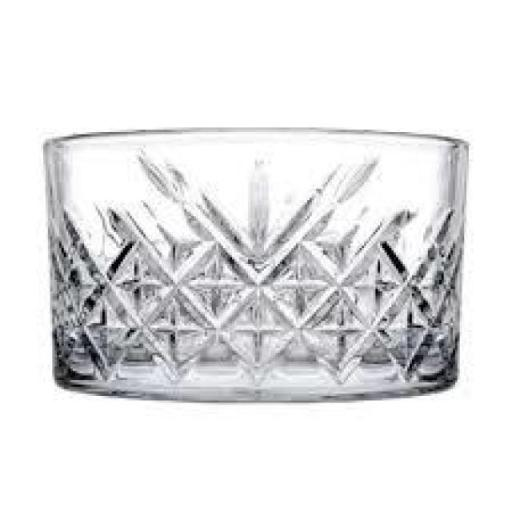glass: (30, 108, 482, 415)
